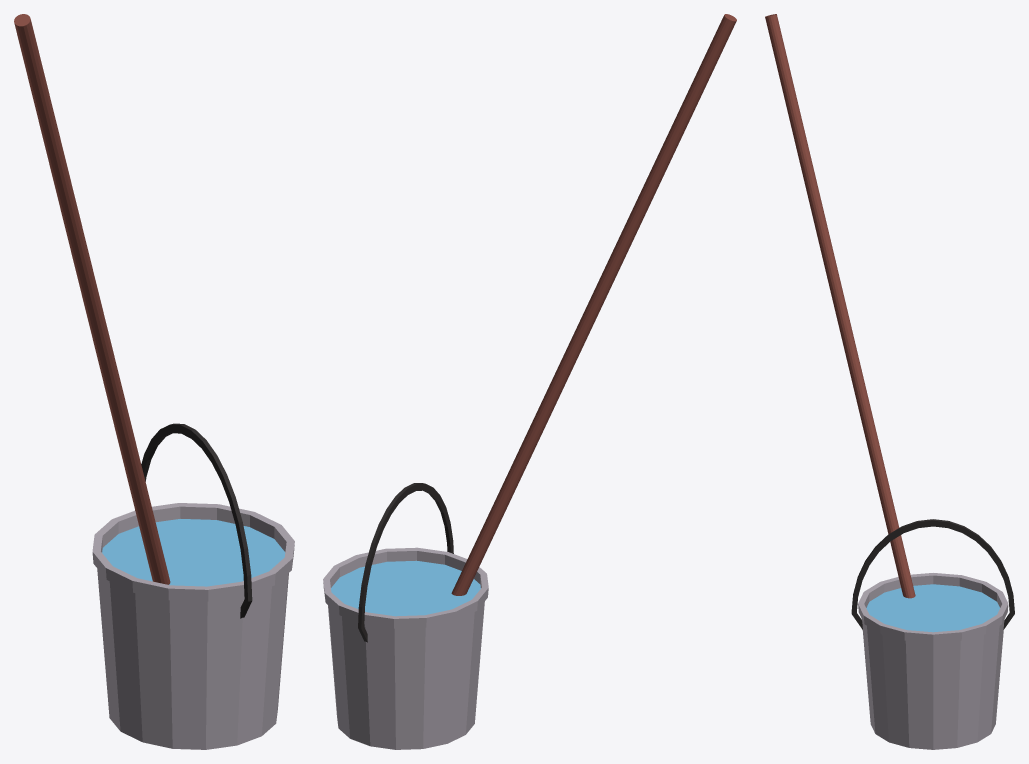
File: cleaningBucket.fbx
3 views of the same model, side by side, from view 1: azimuth 30°, elevation 25°; view 2: azimuth 150°, elevation 25°; view 3: azimuth 270°, elevation 25° (orthographic). The views are drawn at different scales.
Visible parts, largest first — view 1: Cylinder, Cylinder.001, Circle; view 2: Cylinder, Cylinder.001, Circle; view 3: Cylinder, Cylinder.001, Circle.
Boxes of the visible parts, x1,y1,x2,y2 form: Cylinder: (92,503,294,749); Cylinder.001: (14,14,170,584); Circle: (135,423,252,618); Cylinder: (323,547,488,749); Cylinder.001: (451,14,736,595); Circle: (358,483,453,642); Cylinder: (858,573,1008,749); Cylinder.001: (765,14,915,598); Circle: (851,519,1014,629).
Size of the model in its own units: 153 by 328 by 122.
